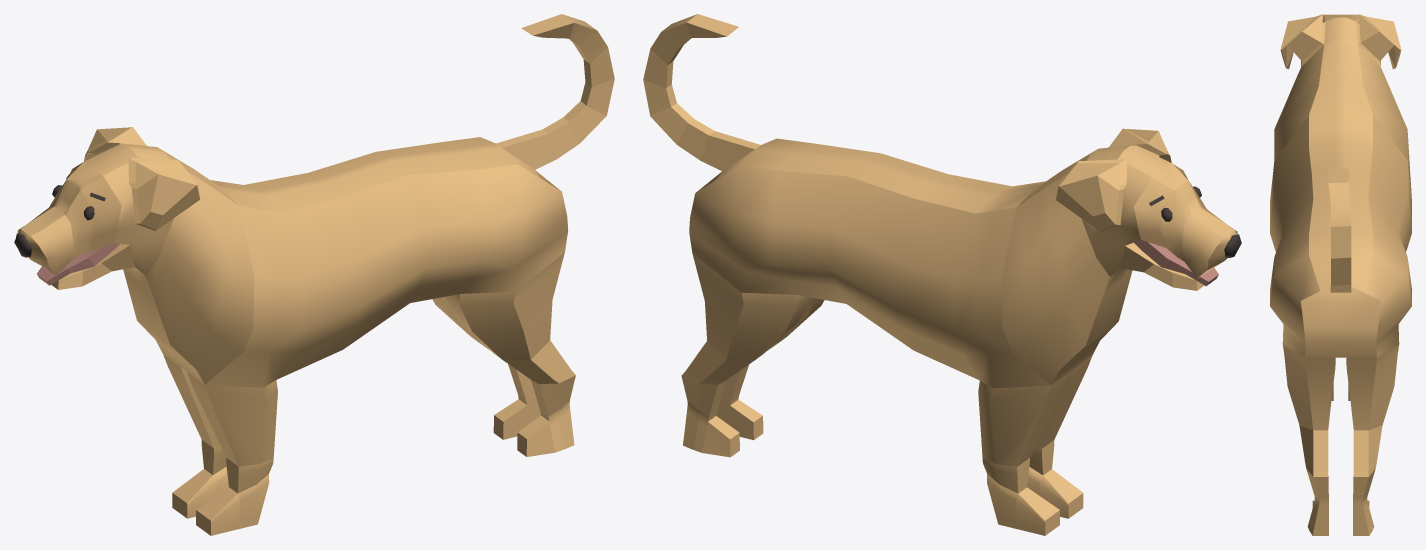
Rendered from main_dog.fbx.
The picture shows the model from 3 angles, left to right: view 1: azimuth 30°, elevation 25°; view 2: azimuth 150°, elevation 25°; view 3: azimuth 270°, elevation 25°; orthographic projection. The views are drawn at different scales.
Parts seen in each view (by area): view 1: main_dog:polySurface1, main_dog:pCube7; view 2: main_dog:polySurface1, main_dog:pCube7; view 3: main_dog:polySurface1.
Boxes of the visible parts, x1=… form: main_dog:polySurface1: x1=17, y1=14, x2=614, y2=535; main_dog:pCube7: x1=37, y1=243, x2=119, y2=285; main_dog:polySurface1: x1=643, y1=14, x2=1237, y2=535; main_dog:pCube7: x1=1134, y1=240, x2=1218, y2=286; main_dog:polySurface1: x1=1270, y1=14, x2=1411, y2=535.
Size of the model in its own units: 43.47 by 29.1 by 10.48.
